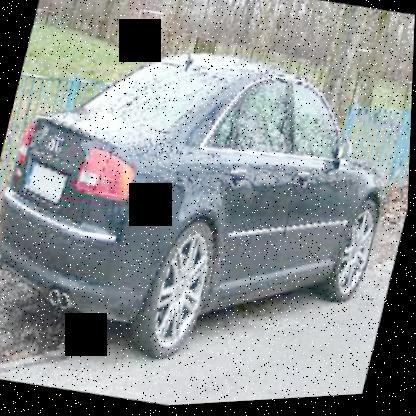not_emergency: (0, 0, 415, 388)
